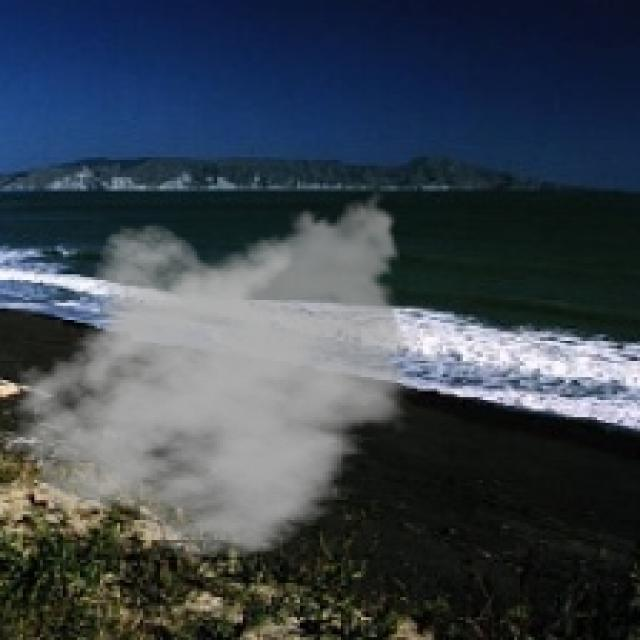smoke: (0, 186, 423, 560)
